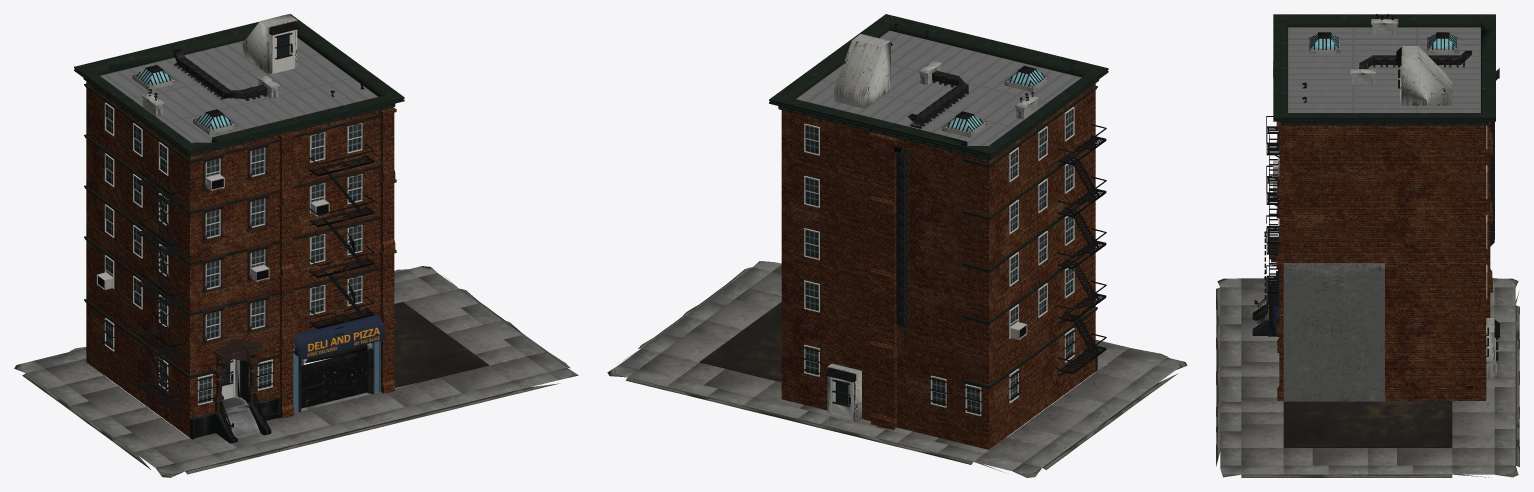
Rendered from city-apartment-building.glb.
The picture shows the model from 3 angles, left to right: view 1: azimuth 30°, elevation 25°; view 2: azimuth 150°, elevation 25°; view 3: azimuth 270°, elevation 25°; orthographic projection. The views are drawn at different scales.
Visible parts, largest first — view 1: brick.4, other_bits.6, concrete.7, wall_roof_rollup.2, cornices_and_trim.5, asphalt.3; view 2: brick.4, concrete.7, other_bits.6, cornices_and_trim.5, wall_roof_rollup.2, asphalt.3; view 3: brick.4, wall_roof_rollup.2, concrete.7, other_bits.6, cornices_and_trim.5, asphalt.3.
Boxes of the visible parts, x1,y1,x2,y2 form: brick.4: [86, 81, 396, 443]; other_bits.6: [96, 14, 384, 439]; concrete.7: [14, 266, 578, 477]; wall_roof_rollup.2: [100, 37, 380, 412]; cornices_and_trim.5: [74, 14, 404, 378]; asphalt.3: [394, 302, 489, 387]; brick.4: [781, 83, 1097, 449]; concrete.7: [607, 261, 1187, 477]; other_bits.6: [803, 23, 1106, 422]; cornices_and_trim.5: [769, 14, 1108, 388]; wall_roof_rollup.2: [796, 30, 1081, 145]; asphalt.3: [699, 302, 781, 382]; brick.4: [1252, 121, 1492, 400]; wall_roof_rollup.2: [1283, 27, 1480, 401]; concrete.7: [1216, 278, 1519, 477]; other_bits.6: [1253, 14, 1499, 389]; cornices_and_trim.5: [1273, 14, 1495, 125]; asphalt.3: [1283, 401, 1452, 447].
Bounding box in the file's own units: 0.1117 × 0.0853 × 0.0718.
6 materials, 6 textured.
